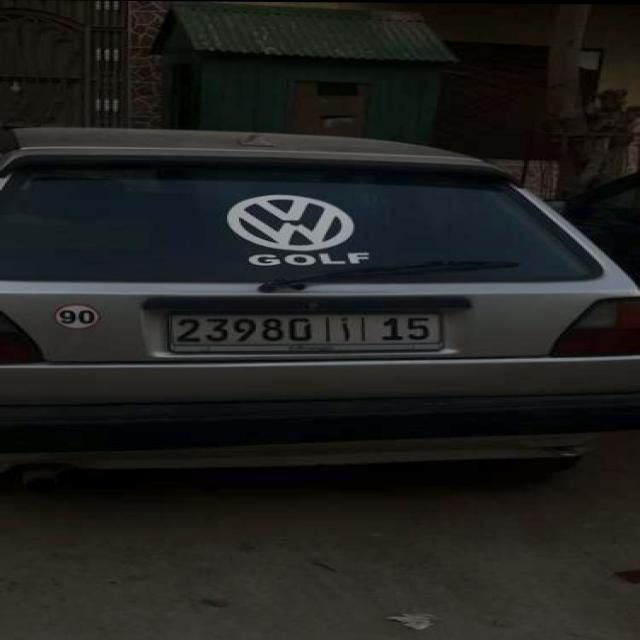License-Plate: (171, 312, 442, 352)
